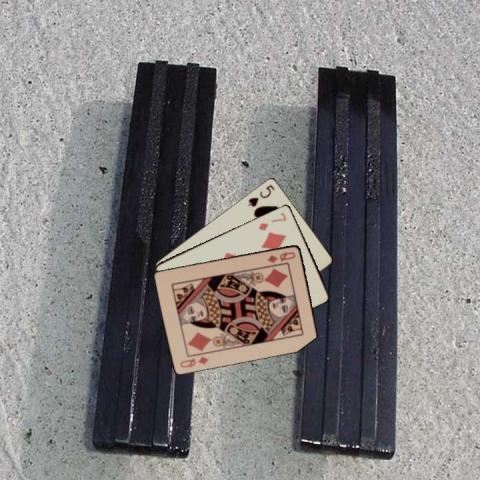5s: (245, 181, 276, 208)
7d: (255, 209, 288, 232)
Qd: (177, 353, 210, 369), (264, 249, 296, 264)
